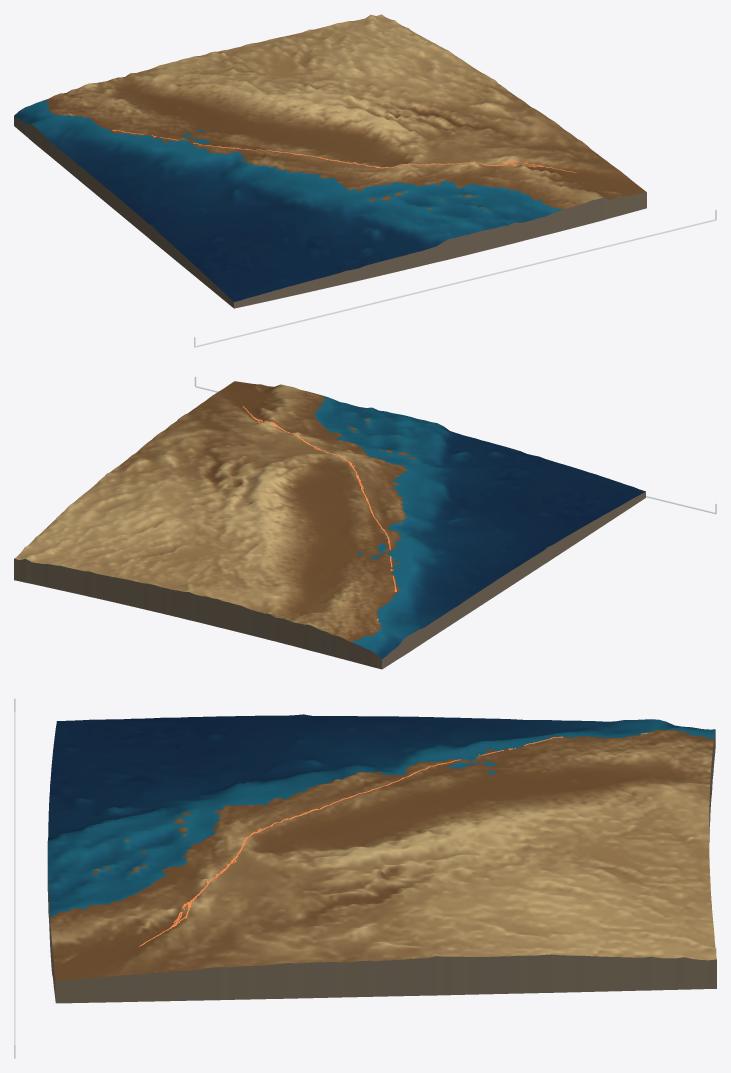
Rendered from terrain3d-san-andreas.glb.
The picture shows the model from 3 angles, top to bottom: view 1: azimuth 30°, elevation 25°; view 2: azimuth 150°, elevation 25°; view 3: azimuth 270°, elevation 25°; orthographic projection. The views are drawn at different scales.
Parts seen in each view (by area): view 1: Measured elevation surface, Opaque geographic crop sides, Straightened total-length reference, Mapped fault traces (display-width ribbon); view 2: Measured elevation surface, Opaque geographic crop sides; view 3: Measured elevation surface, Opaque geographic crop sides, Mapped fault traces (display-width ribbon), Straightened total-length reference.
Boxes of the visible parts, box(x1,y1,x2,y2) form: Measured elevation surface: box(14, 14, 646, 301); Opaque geographic crop sides: box(14, 116, 646, 308); Straightened total-length reference: box(195, 219, 716, 347); Mapped fault traces (display-width ribbon): box(69, 113, 576, 172); Measured elevation surface: box(14, 381, 645, 658); Opaque geographic crop sides: box(14, 491, 645, 669); Measured elevation surface: box(47, 714, 716, 981); Opaque geographic crop sides: box(47, 729, 716, 1003); Mapped fault traces (display-width ribbon): box(139, 732, 647, 946); Straightened total-length reference: box(14, 711, 15, 1058).
Size of the model in its own units: 1212420 by 120391 by 1038791.
Materials: 4 (1 with a texture image).
